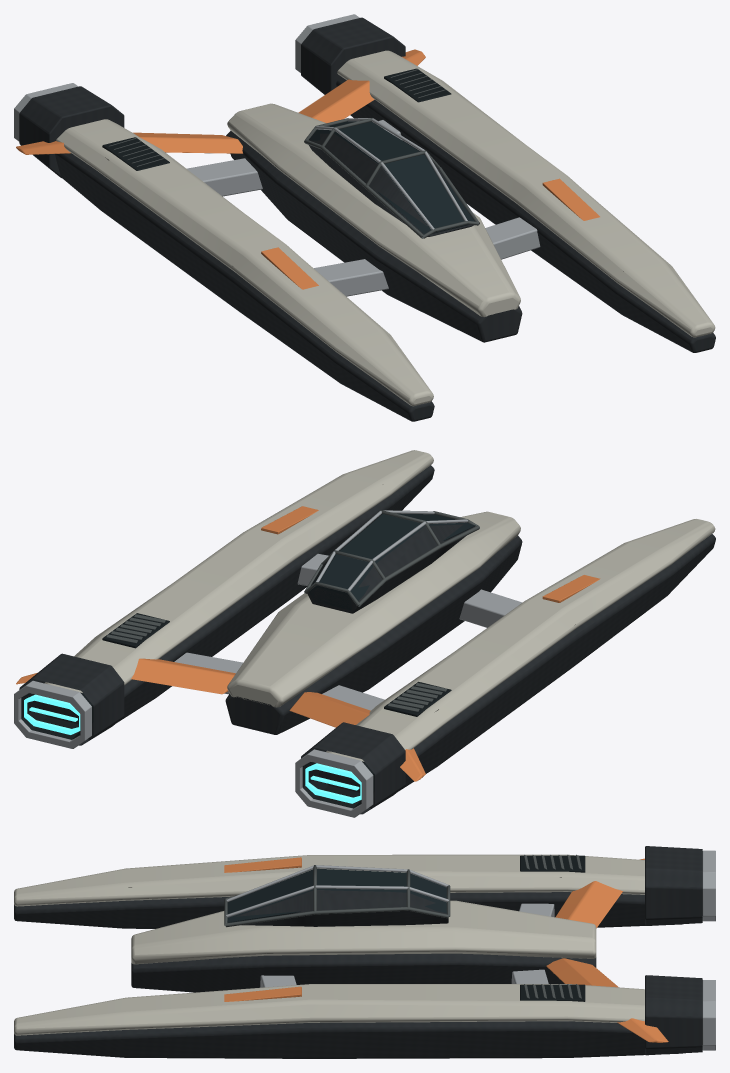
Rendered from tern.glb.
3 views of the same model, one above another, from view 1: azimuth 30°, elevation 25°; view 2: azimuth 150°, elevation 25°; view 3: azimuth 270°, elevation 25° (orthographic). The views are drawn at different scales.
Parts seen in each view (by area): view 1: tern_Ceramic_Geometry, tern_carbon_Geometry, tern_metal_Geometry, tern_accent_Geometry, tern_glass_Geometry, tern_edge_Geometry, tern_vent_Geometry; view 2: tern_Ceramic_Geometry, tern_carbon_Geometry, tern_metal_Geometry, tern_accent_Geometry, tern_glass_Geometry, tern_edge_Geometry, tern_vent_Geometry, tern_Ion_Geometry; view 3: tern_carbon_Geometry, tern_Ceramic_Geometry, tern_accent_Geometry, tern_metal_Geometry, tern_glass_Geometry, tern_edge_Geometry, tern_vent_Geometry.
Boxes of the visible parts, bbox=[...] form: tern_Ceramic_Geometry: bbox=[56, 50, 715, 406]; tern_carbon_Geometry: bbox=[19, 17, 715, 421]; tern_metal_Geometry: bbox=[14, 14, 540, 296]; tern_accent_Geometry: bbox=[16, 49, 599, 289]; tern_glass_Geometry: bbox=[309, 121, 474, 234]; tern_edge_Geometry: bbox=[108, 69, 479, 238]; tern_vent_Geometry: bbox=[102, 68, 451, 170]; tern_Ceramic_Geometry: bbox=[44, 450, 715, 761]; tern_carbon_Geometry: bbox=[19, 465, 715, 814]; tern_metal_Geometry: bbox=[14, 510, 522, 817]; tern_accent_Geometry: bbox=[16, 506, 600, 781]; tern_glass_Geometry: bbox=[309, 513, 475, 610]; tern_edge_Geometry: bbox=[106, 510, 479, 711]; tern_vent_Geometry: bbox=[21, 613, 451, 808]; tern_Ion_Geometry: bbox=[24, 694, 361, 803]; tern_carbon_Geometry: bbox=[14, 846, 702, 1058]; tern_Ceramic_Geometry: bbox=[14, 854, 644, 1035]; tern_accent_Geometry: bbox=[224, 857, 668, 1042]; tern_metal_Geometry: bbox=[226, 850, 715, 1050]; tern_glass_Geometry: bbox=[227, 868, 446, 922]; tern_edge_Geometry: bbox=[224, 854, 581, 998]; tern_vent_Geometry: bbox=[520, 855, 585, 1001].
Size of the model in its own units: 3.94 by 1.12 by 6.34.
9 materials, 3 textured.
